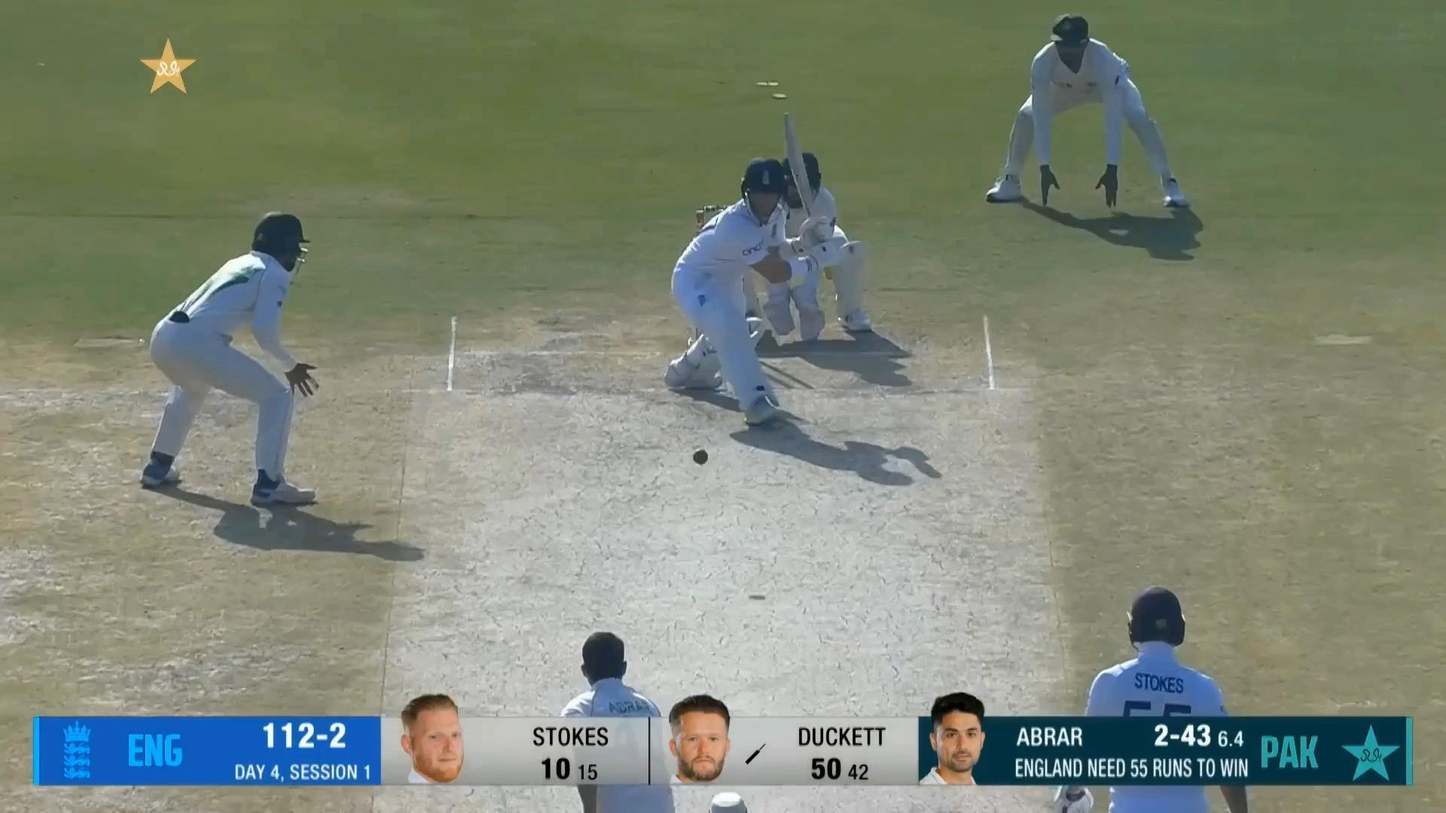BM 1: (670, 109, 844, 428)
BO: (557, 628, 679, 813)
